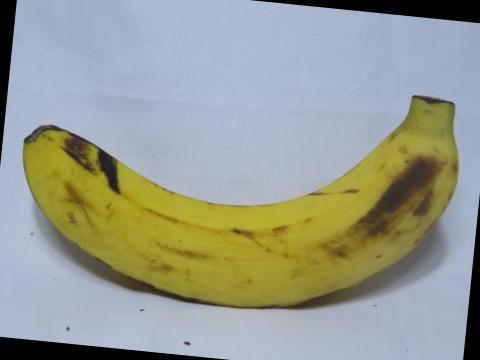ripe: (7, 80, 479, 320)
